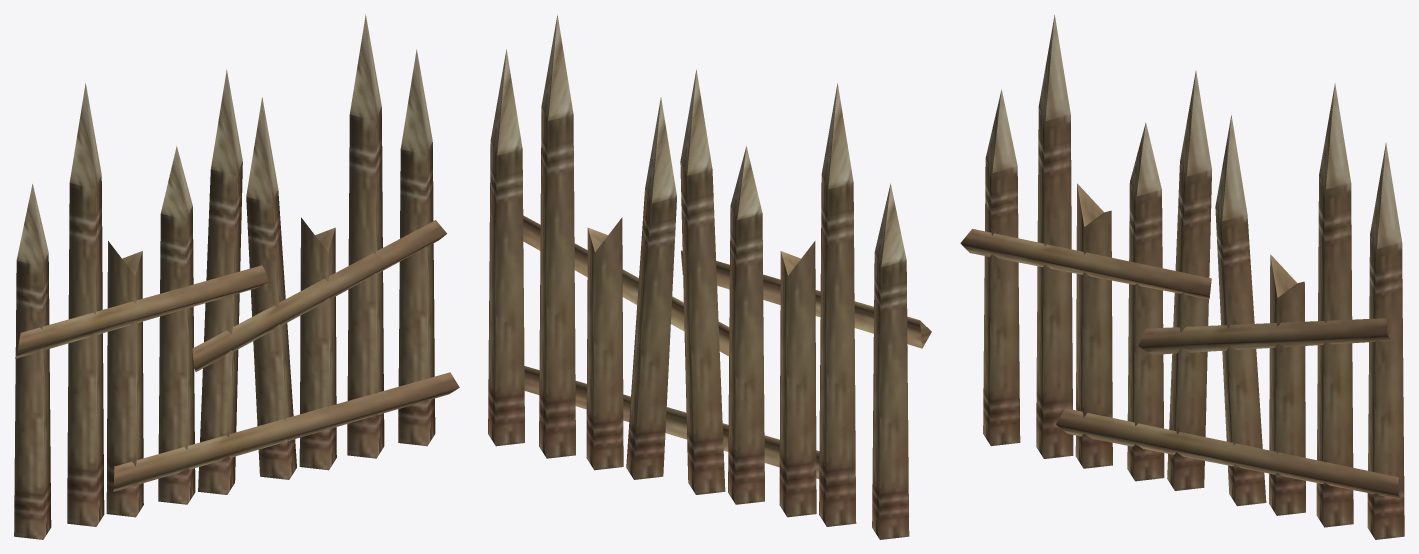
Rendered from zhalan_L.fbx.
3 renders of one model, left to right at view 1: azimuth 30°, elevation 25°; view 2: azimuth 150°, elevation 25°; view 3: azimuth 330°, elevation 25°, orthographic.
Parts seen in each view (by area): view 1: zhalan_L; view 2: zhalan_L; view 3: zhalan_L.
Boxes of the visible parts, <box> form: zhalan_L: <box>14,14,459,539</box>; zhalan_L: <box>488,14,931,539</box>; zhalan_L: <box>960,15,1404,539</box>.
Size of the model in its own units: 3.75 by 3.56 by 0.3876.
